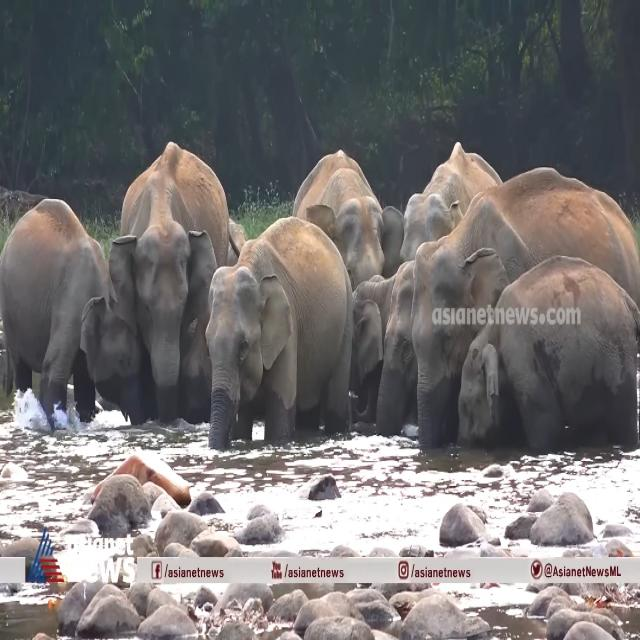ELEPHANT: (205, 209, 359, 439), (0, 203, 141, 421)
